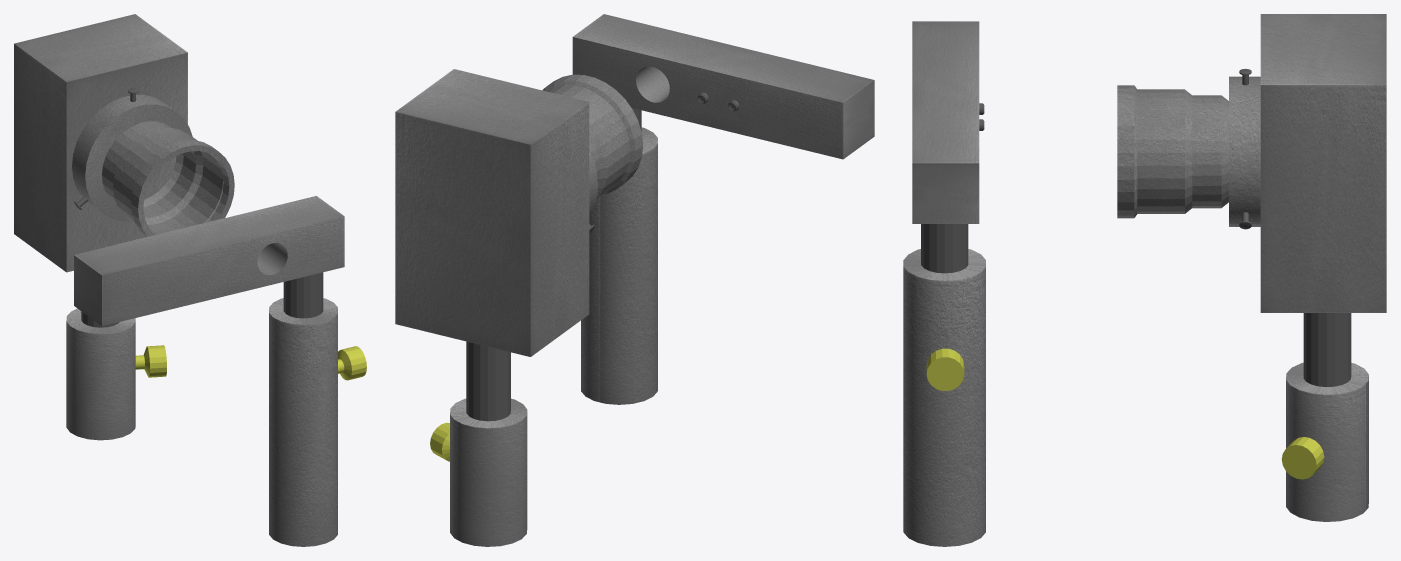
File: Ray_channel_right_1.glb
3 views of the same model, side by side, from view 1: azimuth 30°, elevation 25°; view 2: azimuth 150°, elevation 25°; view 3: azimuth 270°, elevation 25° (orthographic). The views are drawn at different scales.
Visible parts, largest first — view 1: Box028, Box026, Cylinder370, Cylinder194, Cylinder371, Object044, Object043, Object045; view 2: Box028, Box026, Cylinder370, Cylinder371, Cylinder194, Object046, Object045; view 3: Box028, Cylinder370, Cylinder194, Box026, Cylinder371, Object046, Object044, Object045, Object043.
Boxes of the visible parts, <box> form: Box028: <box>14,14,187,272</box>; Box026: <box>74,196,344,325</box>; Cylinder370: <box>269,298,337,546</box>; Cylinder194: <box>72,94,234,236</box>; Cylinder371: <box>66,308,135,440</box>; Object044: <box>283,272,323,318</box>; Object043: <box>338,346,366,380</box>; Object045: <box>135,345,166,377</box>; Box028: <box>395,69,589,356</box>; Box026: <box>572,14,874,159</box>; Cylinder370: <box>581,127,657,404</box>; Cylinder371: <box>450,398,527,546</box>; Cylinder194: <box>542,74,642,214</box>; Object046: <box>466,341,510,421</box>; Object045: <box>430,422,449,461</box>; Box028: <box>1260,14,1386,312</box>; Cylinder370: <box>903,249,985,546</box>; Cylinder194: <box>1117,76,1260,226</box>; Box026: <box>912,21,979,223</box>; Cylinder371: <box>1286,362,1368,521</box>; Object046: <box>1303,313,1351,386</box>; Object044: <box>921,224,968,273</box>; Object045: <box>1281,437,1324,479</box>; Object043: <box>926,348,964,390</box>.
Size of the model in its own units: 4.47 by 5.97 by 5.76.
Materials: 3 (1 with a texture image).
